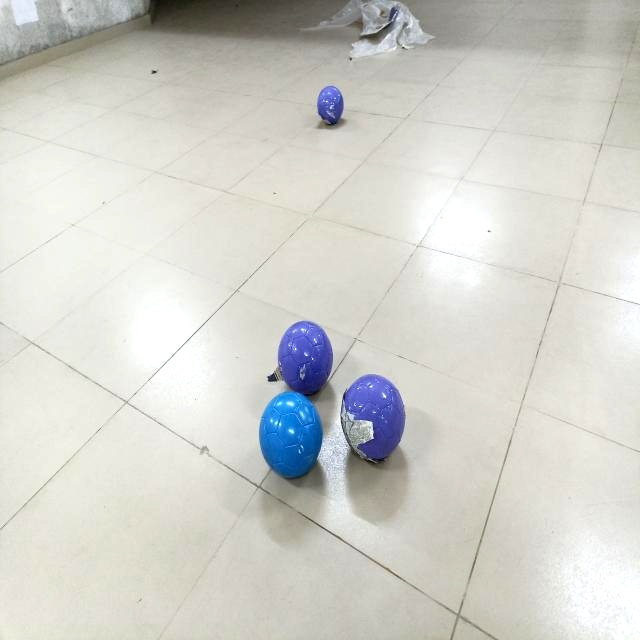blue_ball: (253, 387, 333, 491)
purple_ball: (342, 369, 409, 473), (276, 314, 341, 401), (315, 81, 346, 130)
